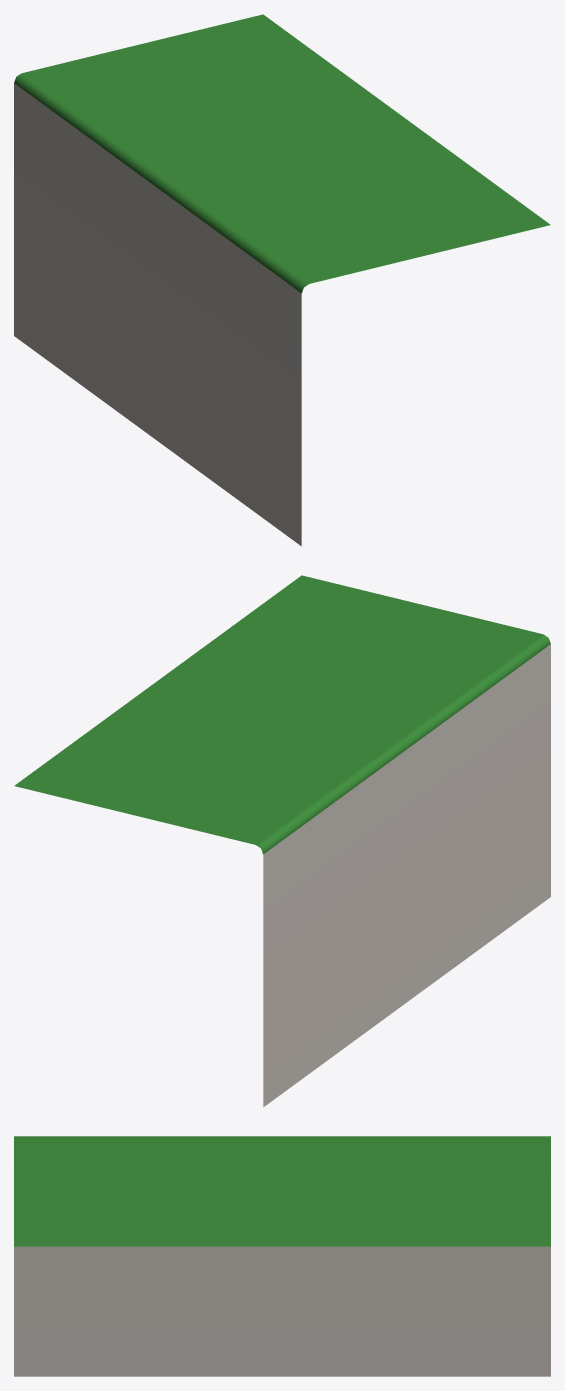
File: cliff_1sided_small.fbx
3 renders of one model, top to bottom at view 1: azimuth 30°, elevation 25°; view 2: azimuth 150°, elevation 25°; view 3: azimuth 270°, elevation 25°, orthographic. The views are drawn at different scales.
Visible parts, largest first — view 1: Cliff_01_Thin; view 2: Cliff_01_Thin; view 3: Cliff_01_Thin.
Part boxes in pixels (x1,y1,x2,y2): Cliff_01_Thin: (14, 14, 550, 546); Cliff_01_Thin: (14, 575, 550, 1107); Cliff_01_Thin: (14, 1136, 550, 1376).
Bounding box in the file's own units: 100 × 100 × 200.
